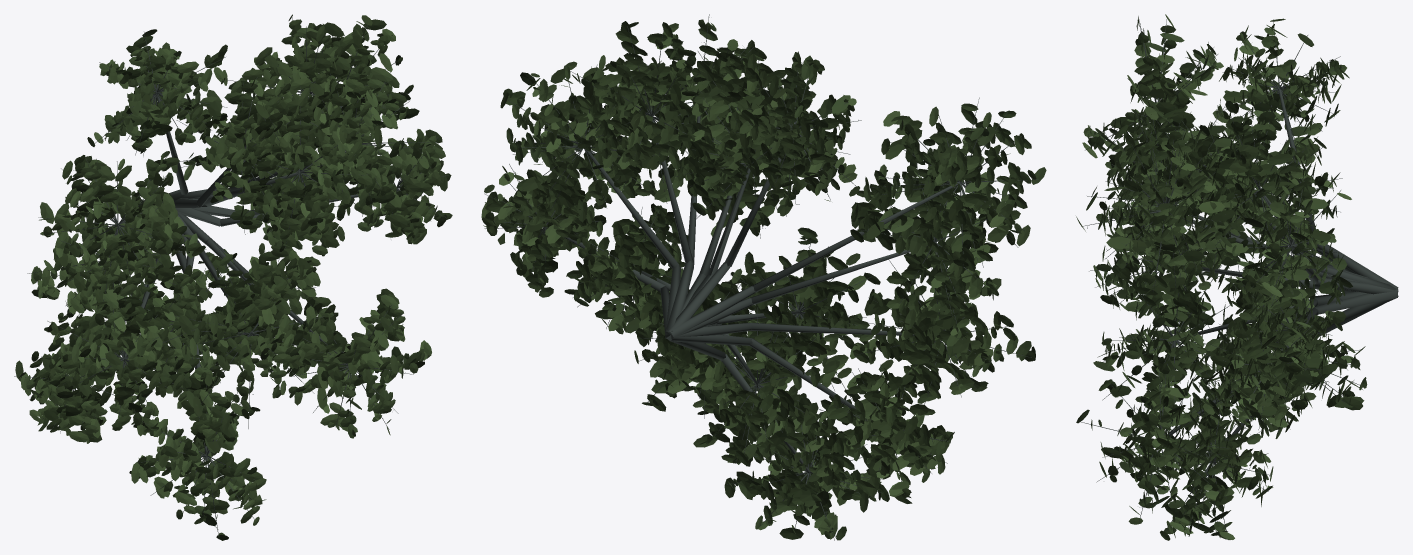
File: tree_m3.obj
3 renders of one model, left to right at view 1: azimuth 30°, elevation 25°; view 2: azimuth 150°, elevation 25°; view 3: azimuth 270°, elevation 25°, orthographic. The views are drawn at different scales.
Bounding box in the file's own units: 1.78 × 1.74 × 1.02.
1 material, 1 textured.
